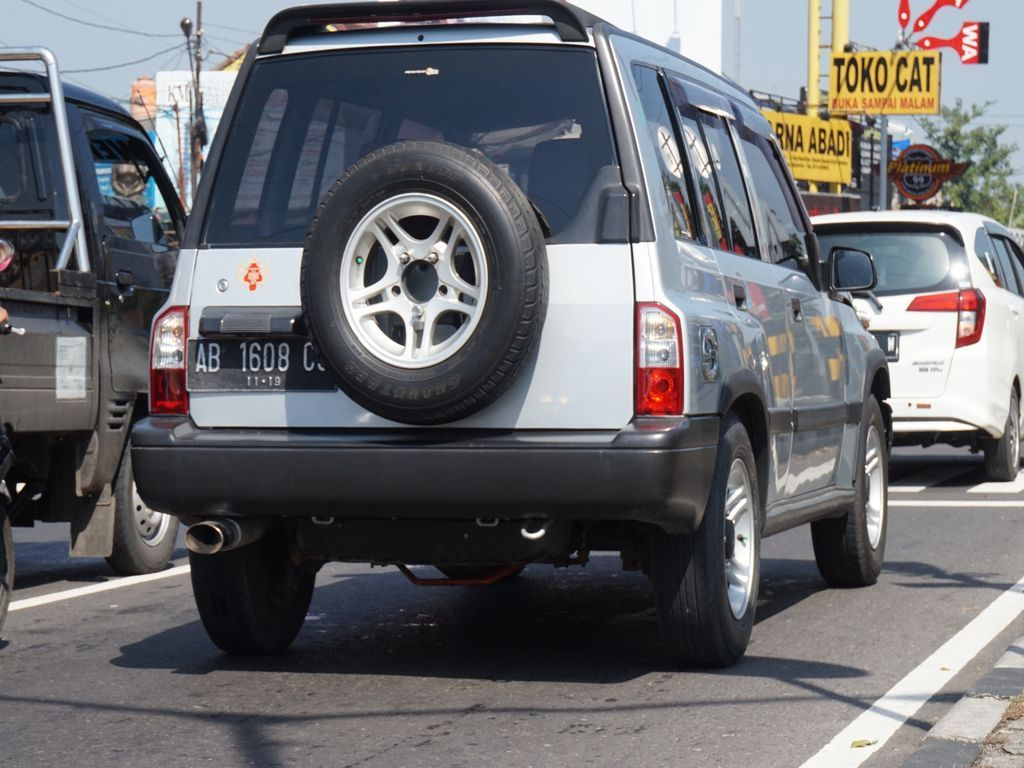plate: (192, 341, 326, 386)
